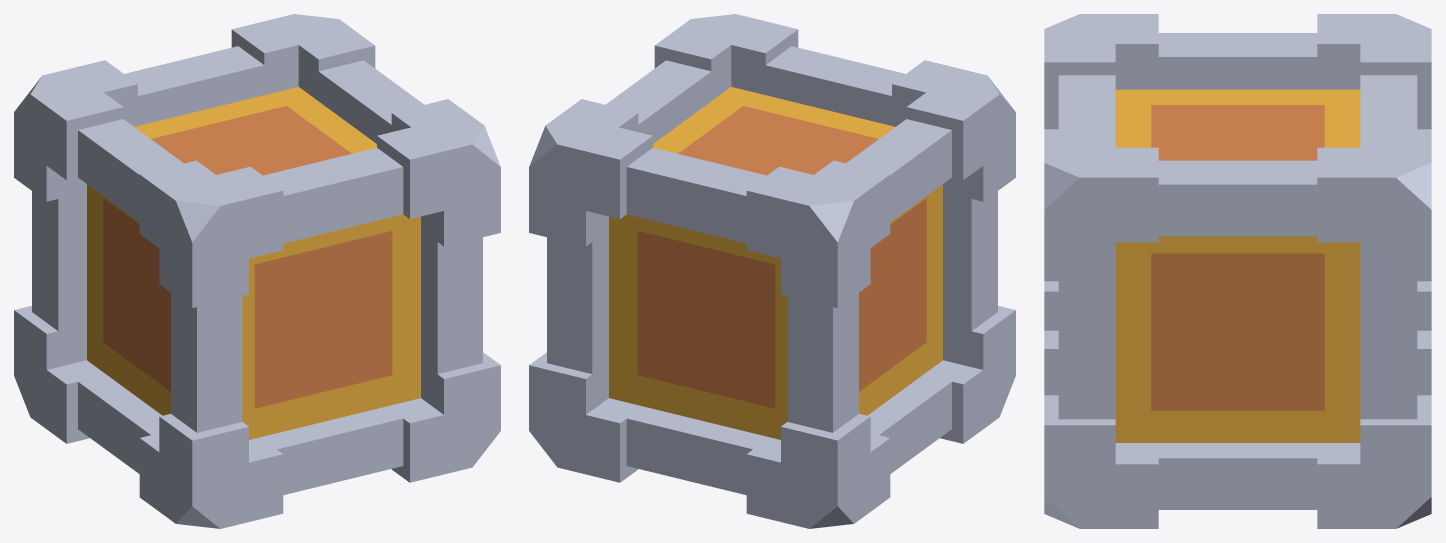
File: crateItemStrong.obj
3 renders of one model, left to right at view 1: azimuth 30°, elevation 25°; view 2: azimuth 150°, elevation 25°; view 3: azimuth 270°, elevation 25°, orthographic. The views are drawn at different scales.
Parts seen in each view (by area): view 1: crateItemStrong; view 2: crateItemStrong; view 3: crateItemStrong.
Part boxes in pixels (x1,y1,x2,y2): crateItemStrong: [14, 14, 500, 528]; crateItemStrong: [529, 14, 1015, 528]; crateItemStrong: [1044, 14, 1431, 528].
Bounding box in the file's own units: 0.54 × 0.54 × 0.54.
